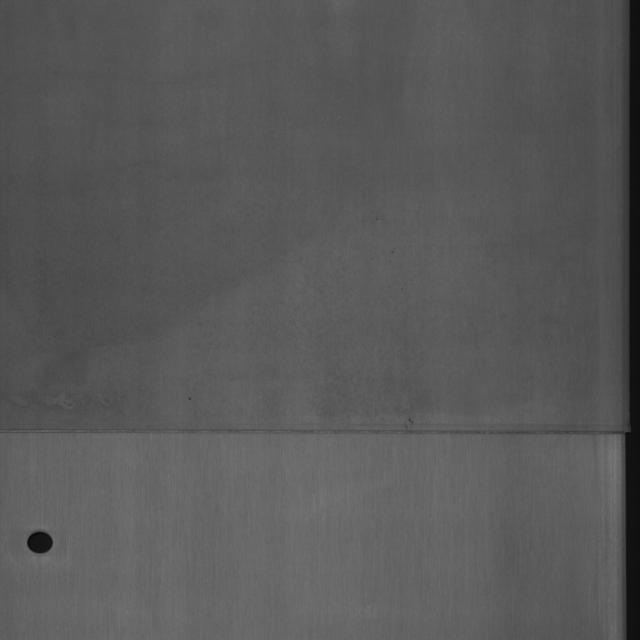crease: (4, 414, 637, 462)
crescent_gap: (24, 524, 60, 556)
